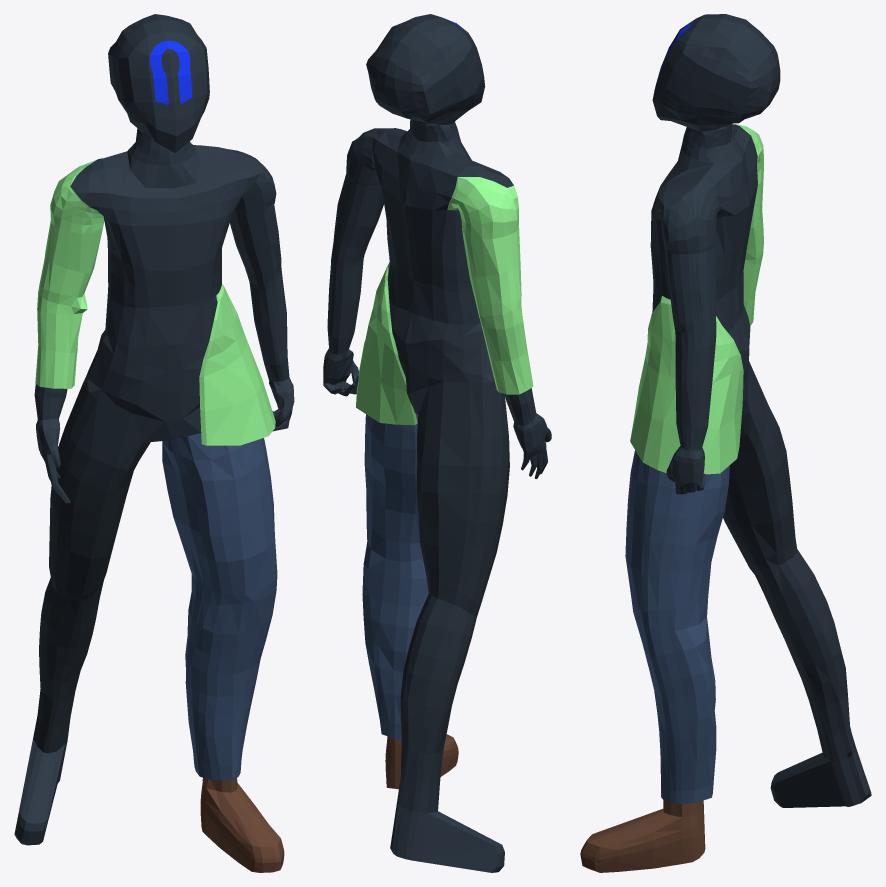
Rendered from Mar_Stun_000019.obj.
3 views of the same model, side by side, from view 1: azimuth 30°, elevation 25°; view 2: azimuth 150°, elevation 25°; view 3: azimuth 270°, elevation 25° (orthographic). The views are drawn at different scales.
Parts seen in each view (by area): view 1: Cube.000_Cube.001; view 2: Cube.000_Cube.001; view 3: Cube.000_Cube.001.
Part boxes in pixels (bbox=[...]): Cube.000_Cube.001: bbox=[14, 14, 294, 872]; Cube.000_Cube.001: bbox=[323, 14, 551, 872]; Cube.000_Cube.001: bbox=[580, 14, 871, 872].
Size of the model in its own units: 1.19 by 3.99 by 1.26.
